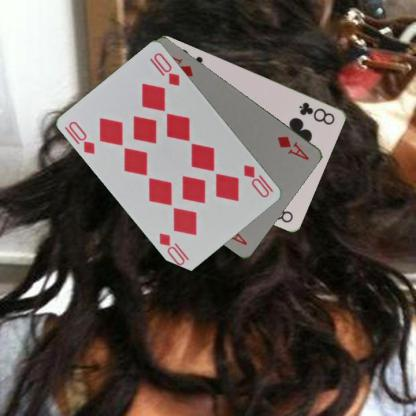10d: (241, 162, 276, 199), (66, 118, 96, 155)
8c: (296, 99, 337, 126)
Ad: (275, 133, 310, 162)
